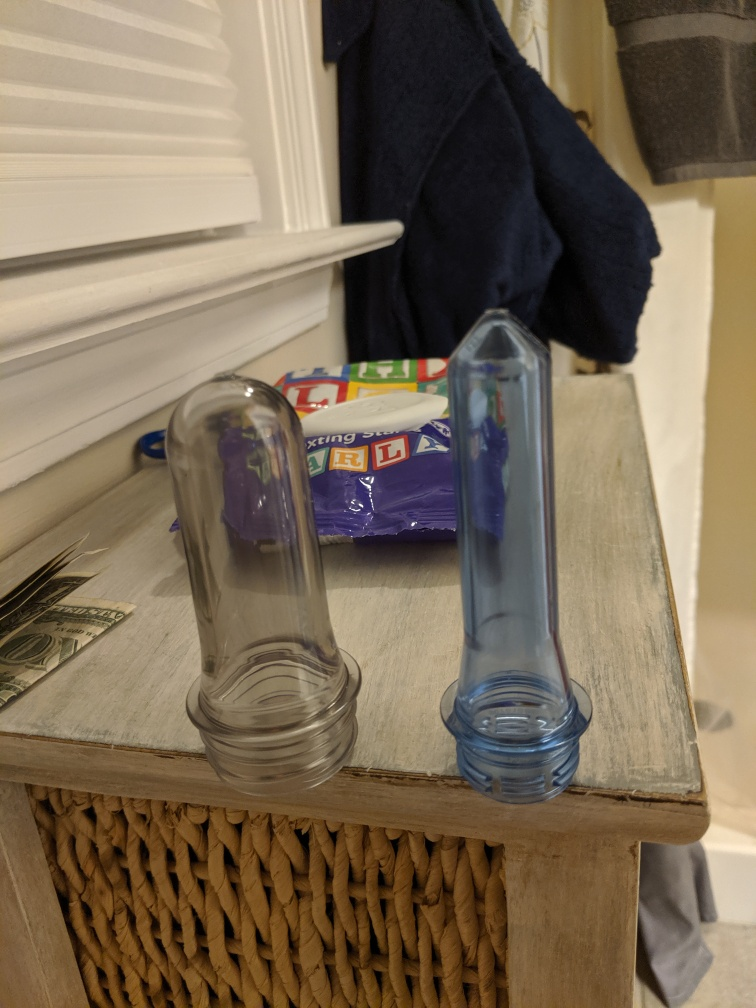preform: (153, 360, 369, 808), (436, 294, 603, 810)
